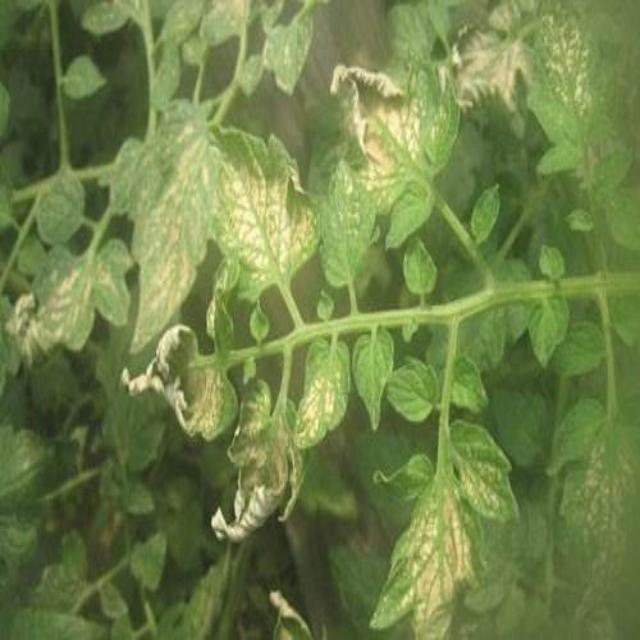Early_blight: (384, 457, 509, 640), (125, 121, 212, 354), (328, 63, 443, 209), (214, 149, 319, 297), (209, 386, 305, 544), (3, 255, 122, 366), (121, 328, 235, 440), (442, 3, 533, 115), (537, 7, 597, 119), (291, 363, 350, 446)
